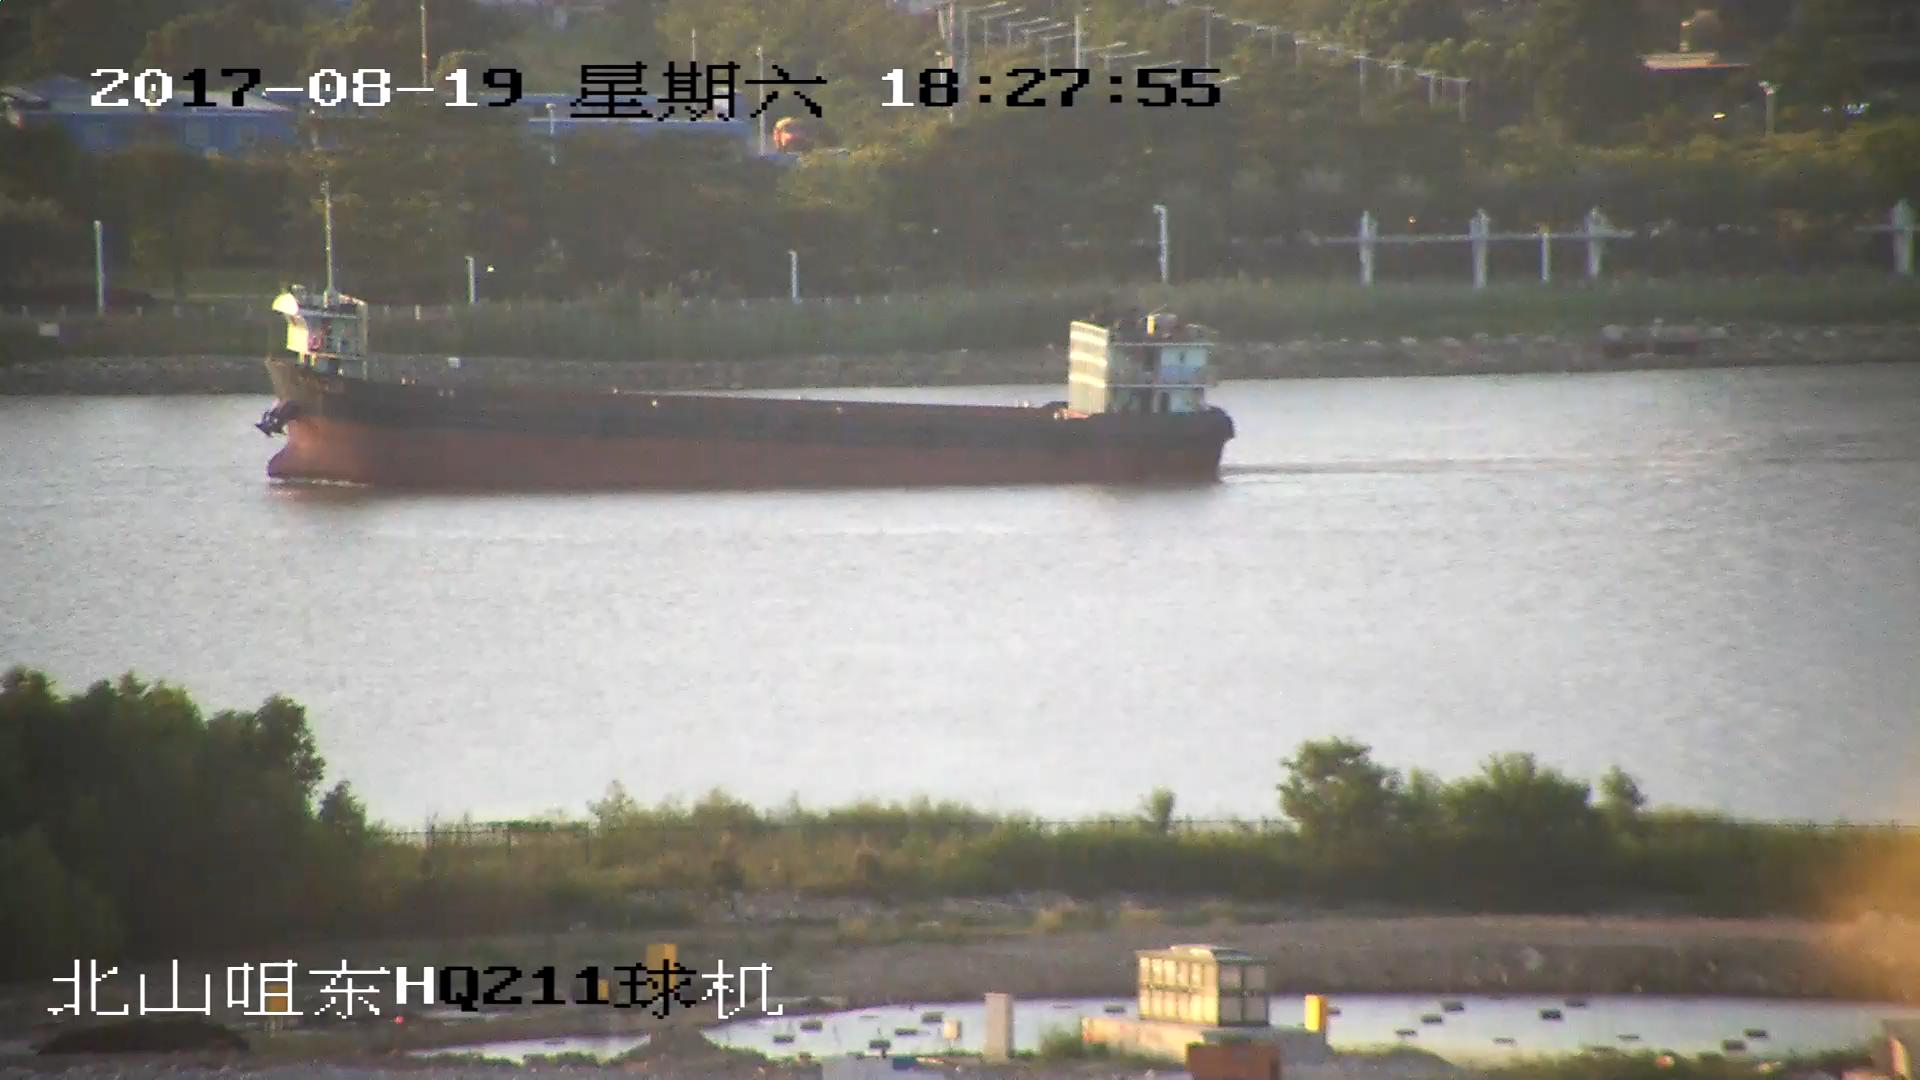general cargo ship: (247, 283, 1225, 488)
